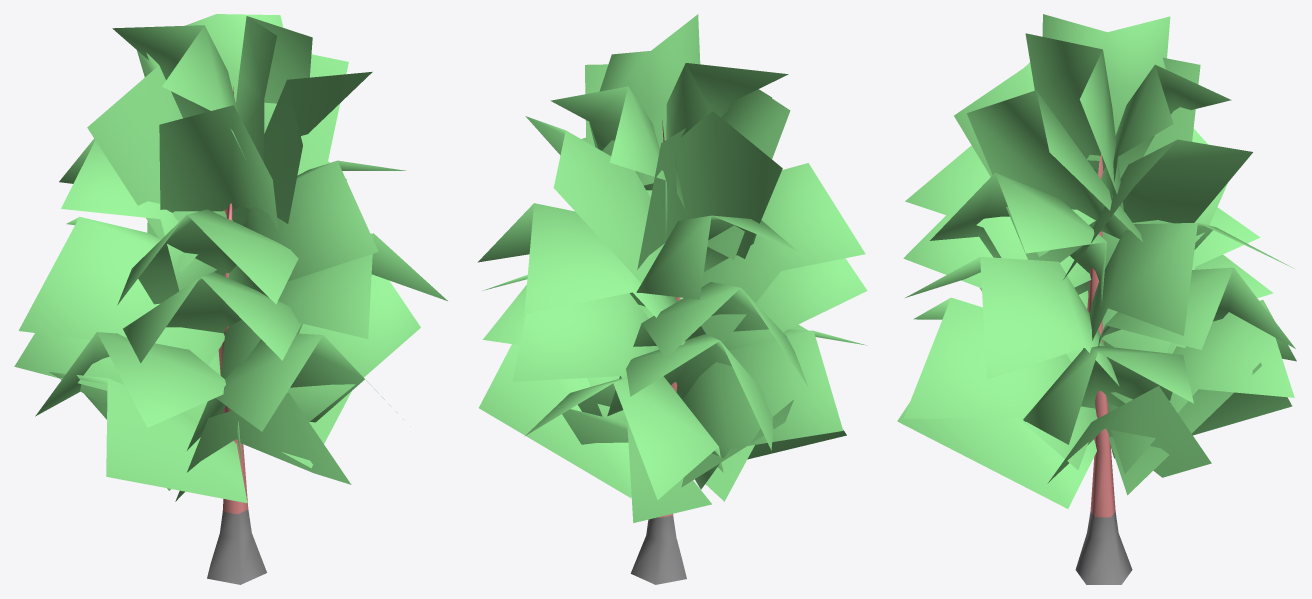
The model's file is Oren_elf_tree09.gltf.
The picture shows the model from 3 angles, left to right: view 1: azimuth 30°, elevation 25°; view 2: azimuth 150°, elevation 25°; view 3: azimuth 270°, elevation 25°; orthographic projection. The views are drawn at different scales.
Visible parts, largest first — view 1: Oren_elf_tree09; view 2: Oren_elf_tree09; view 3: Oren_elf_tree09.
Boxes of the visible parts, x1,y1,x2,y2 form: Oren_elf_tree09: (14, 14, 447, 584); Oren_elf_tree09: (477, 14, 867, 584); Oren_elf_tree09: (897, 14, 1296, 584).
Bounding box in the file's own units: 7.79 × 11.53 × 7.74.
